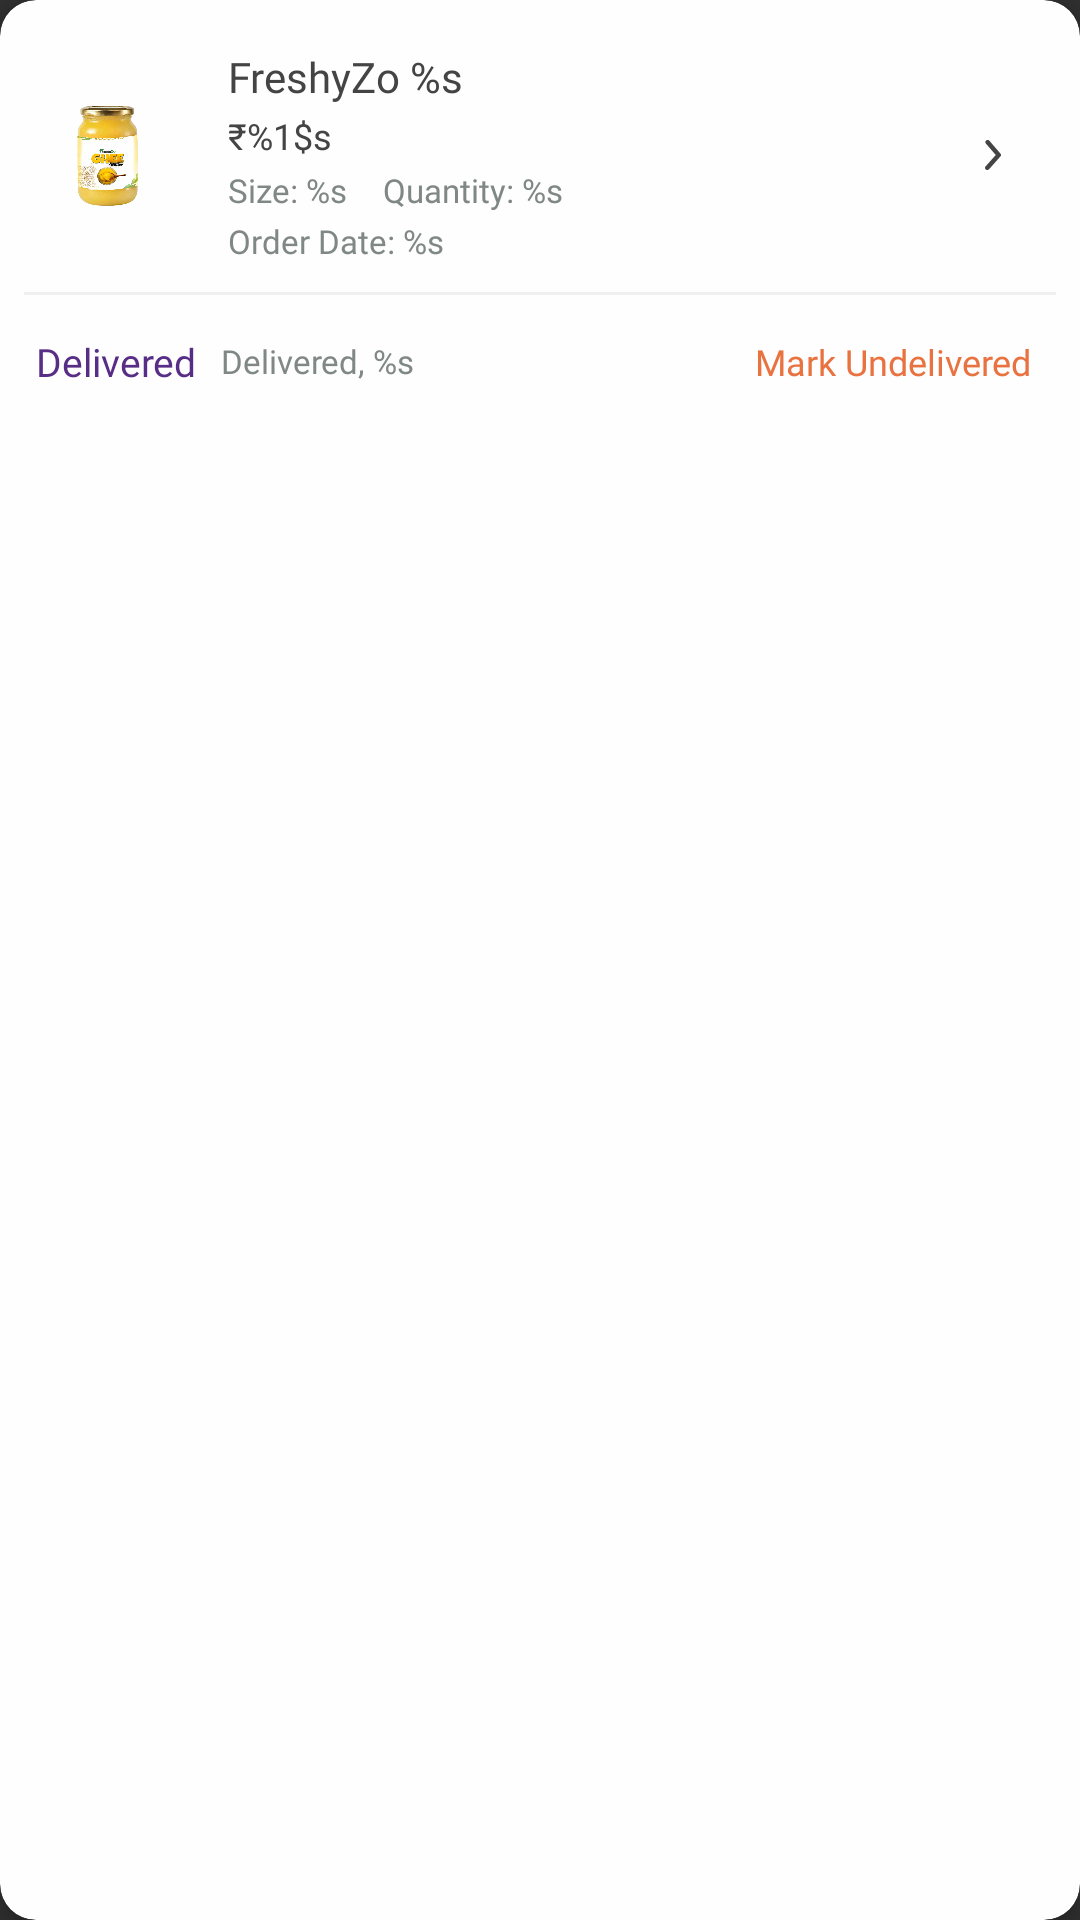

Screen size 1080*1920. Icon name, then its center in pixels as [x,y]:
View Details: [993,155]
